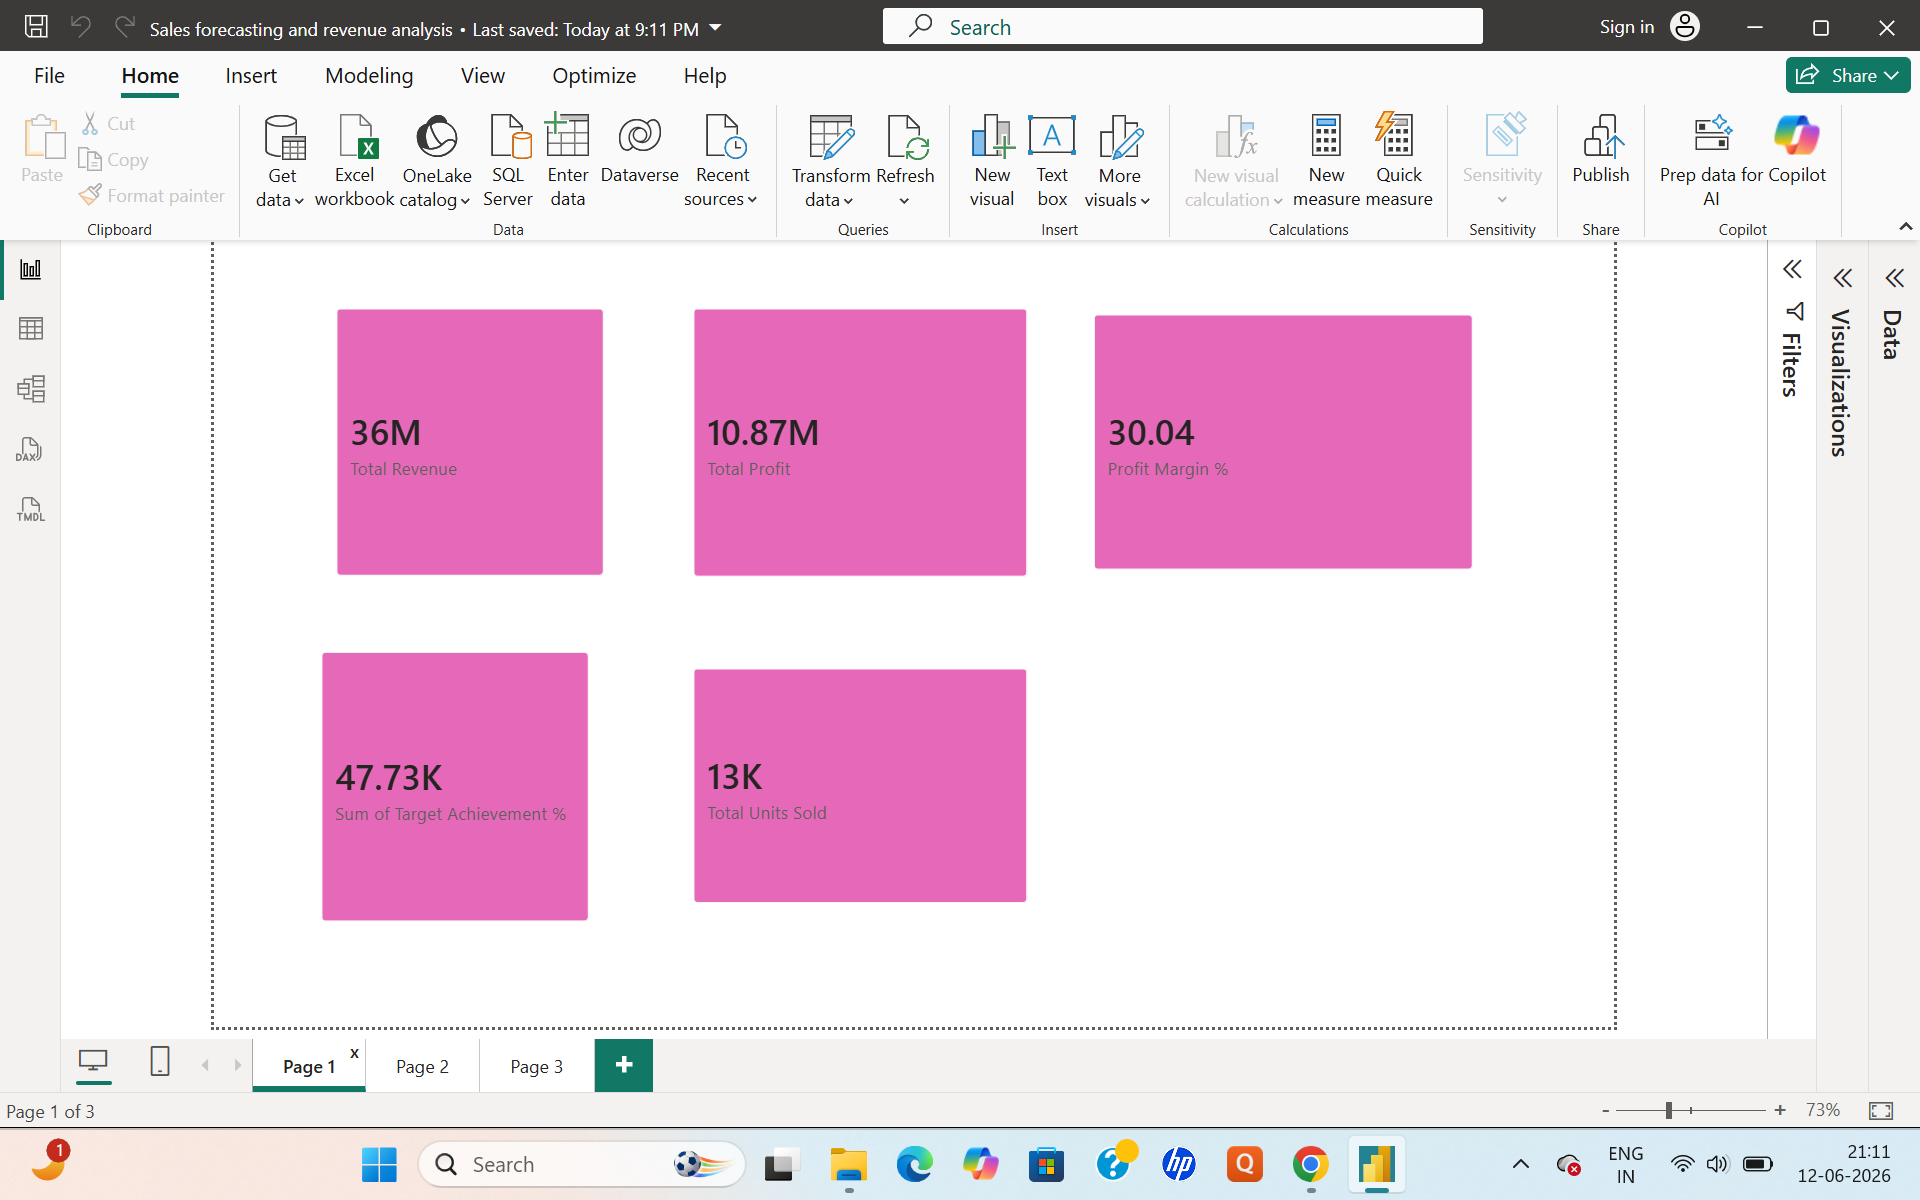

Layout of this report page (visuals, bound fields, positions):
{"tool":"powerbi","page":{"name":"Page 1","canvas":[1280,720],"ordinal":0},"visuals":[{"type":"cardVisual","fields":{"Data":["SalesData.Total Revenue"]},"box":[94.5,45.4,279.7,279.7],"z":0},{"type":"cardVisual","fields":{"Data":["Sum(SalesData.Target Achievement %)"]},"box":[81.3,359.1,279.7,281.6],"z":1},{"type":"cardVisual","fields":{"Data":["SalesData.Profit Margin %"]},"box":[788,51,381.7,268.3],"z":3},{"type":"cardVisual","fields":{"Data":["SalesData.Total Units Sold"]},"box":[421.4,374.2,340.2,249.5],"z":4},{"type":"cardVisual","fields":{"Data":["SalesData.Total Profit"]},"box":[421,45,340,280],"z":6}]}

Visuals, with their boxes on the page's 1280x720 design canvas (x1, y1, x2, y2). These are canvas units, not pixel positions in the 1920x1200 screenshot, which may show the page scaled, cropped or inside an application window:
cardVisual - SalesData.Total Revenue: [x1=94, y1=45, x2=374, y2=325]
cardVisual - Sum(SalesData.Target Achievement %): [x1=81, y1=359, x2=361, y2=641]
cardVisual - SalesData.Profit Margin %: [x1=788, y1=51, x2=1170, y2=319]
cardVisual - SalesData.Total Units Sold: [x1=421, y1=374, x2=762, y2=624]
cardVisual - SalesData.Total Profit: [x1=421, y1=45, x2=761, y2=325]
